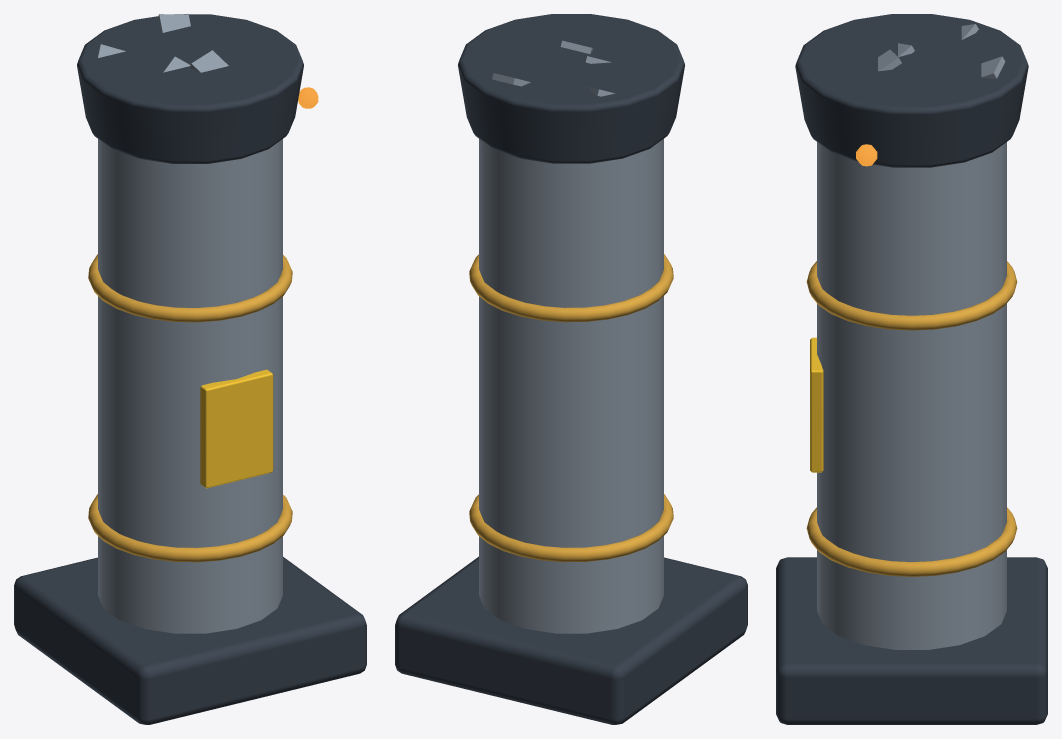
The model's file is vent_stack.glb.
3 renders of one model, left to right at view 1: azimuth 30°, elevation 25°; view 2: azimuth 150°, elevation 25°; view 3: azimuth 270°, elevation 25°, orthographic. The views are drawn at different scales.
Parts seen in each view (by area): view 1: vent_stack_body, fan; view 2: vent_stack_body, fan; view 3: vent_stack_body, fan.
Part boxes in pixels (x1,y1,x2,y2): vent_stack_body: (14, 14, 366, 724); fan: (98, 14, 228, 72); vent_stack_body: (395, 14, 747, 724); fan: (492, 40, 615, 96); vent_stack_body: (776, 14, 1047, 724); fan: (878, 24, 1005, 78).
Bounding box in the file's own units: 1.2 × 3.03 × 1.2.
